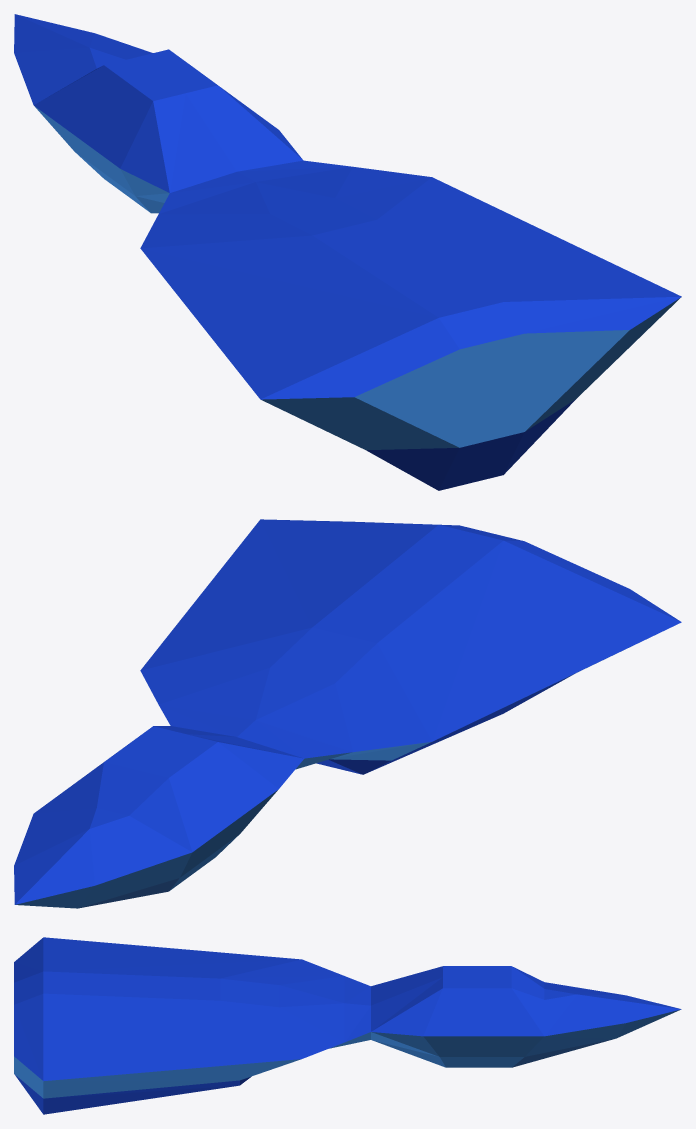
The model's file is body.FBX.
3 views of the same model, one above another, from view 1: azimuth 30°, elevation 25°; view 2: azimuth 150°, elevation 25°; view 3: azimuth 270°, elevation 25° (orthographic). The views are drawn at different scales.
Visible parts, largest first — view 1: VIFS001, VIFS002; view 2: VIFS001, VIFS002, VIFS003; view 3: VIFS001, VIFS002, VIFS003.
Part boxes in pixels (bbox=[...]): VIFS001: bbox=[14, 14, 681, 490]; VIFS002: bbox=[34, 106, 681, 450]; VIFS001: bbox=[14, 519, 681, 904]; VIFS002: bbox=[15, 638, 648, 908]; VIFS003: bbox=[79, 878, 179, 908]; VIFS001: bbox=[14, 937, 681, 1114]; VIFS002: bbox=[14, 1009, 680, 1098]; VIFS003: bbox=[512, 1039, 613, 1067].
Size of the model in its own units: 0.52 by 0.213 by 1.02.
